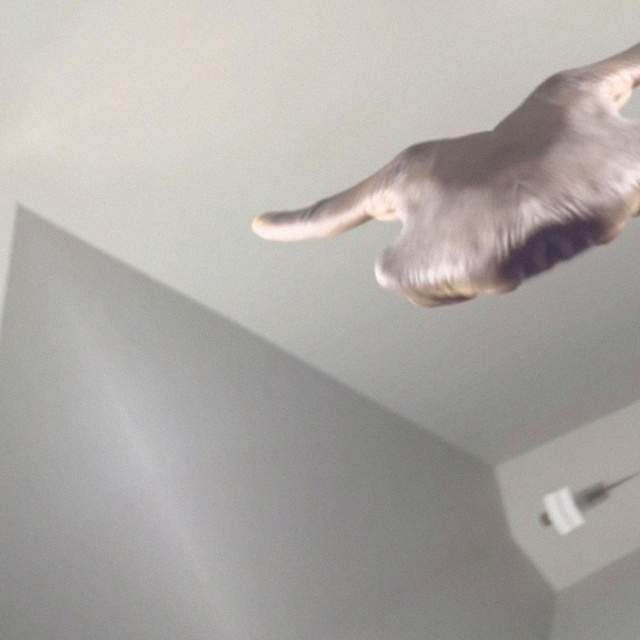Scissors: (250, 106, 563, 386)
